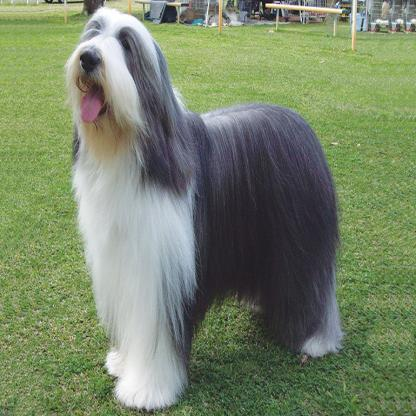Bearded Collie: (60, 4, 349, 410)
